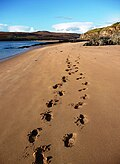human_foot_print: (33, 144, 52, 163), (27, 128, 41, 142), (63, 133, 77, 147), (75, 114, 87, 127), (40, 111, 52, 121), (75, 72, 86, 81), (46, 99, 58, 107), (78, 86, 91, 92), (62, 74, 69, 84), (65, 66, 73, 74), (74, 101, 83, 108), (53, 83, 62, 88), (80, 95, 91, 99)
